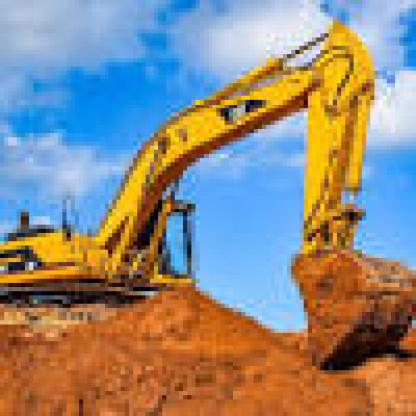excavator: (4, 12, 412, 370)
